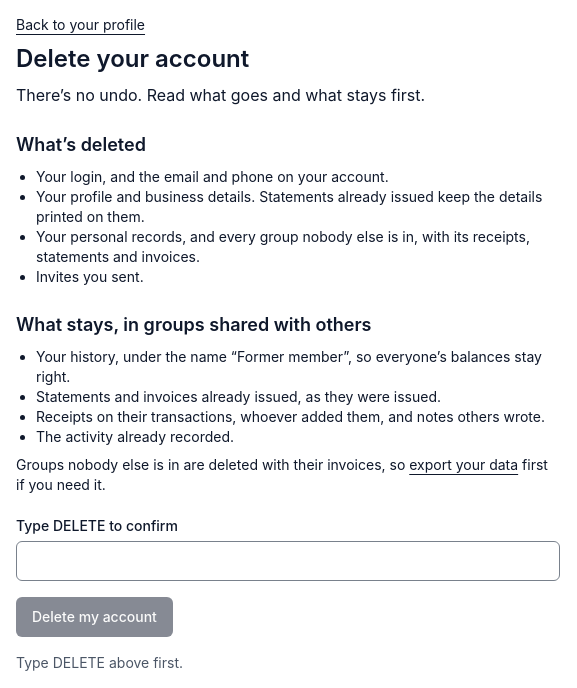
Scenario: DeleteAccountPage › deletes, then clears the cache, signs out and says so
Step 1. Type "DELETE" into the field labelled "Type DELETE to confirm" → [288, 561], box [16,541,560,581]
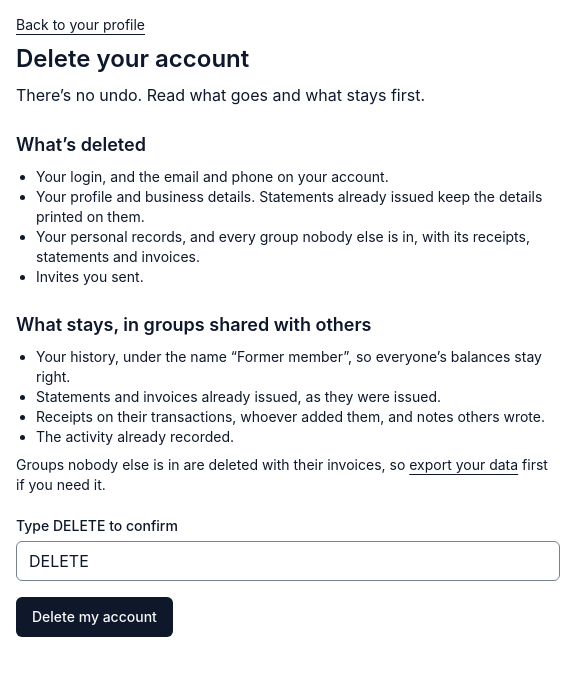
Step 2. Click the button "Delete my account" → [94, 617], box [16,597,173,637]
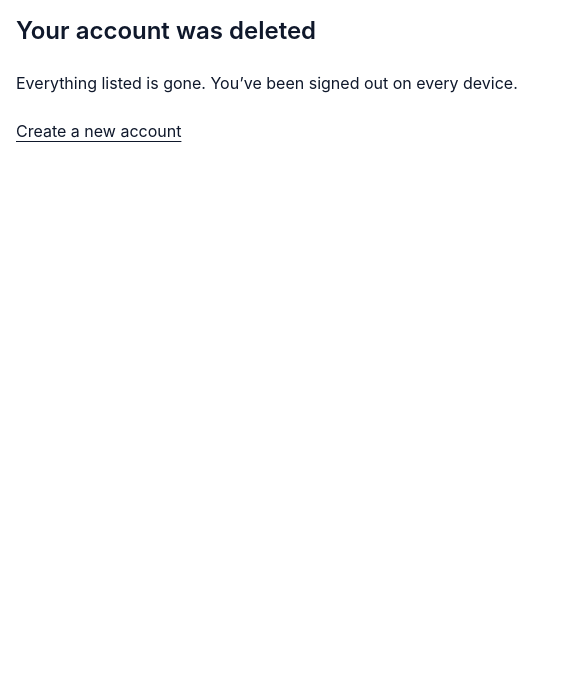
Expected: the text "Everything listed is gone." is shown, [16,73,206,93]
Expected: the text "signed out on every device" is shown, [210,73,518,93]
Expected: the heading "Your account was deleted" is shown, [16,16,316,45]
